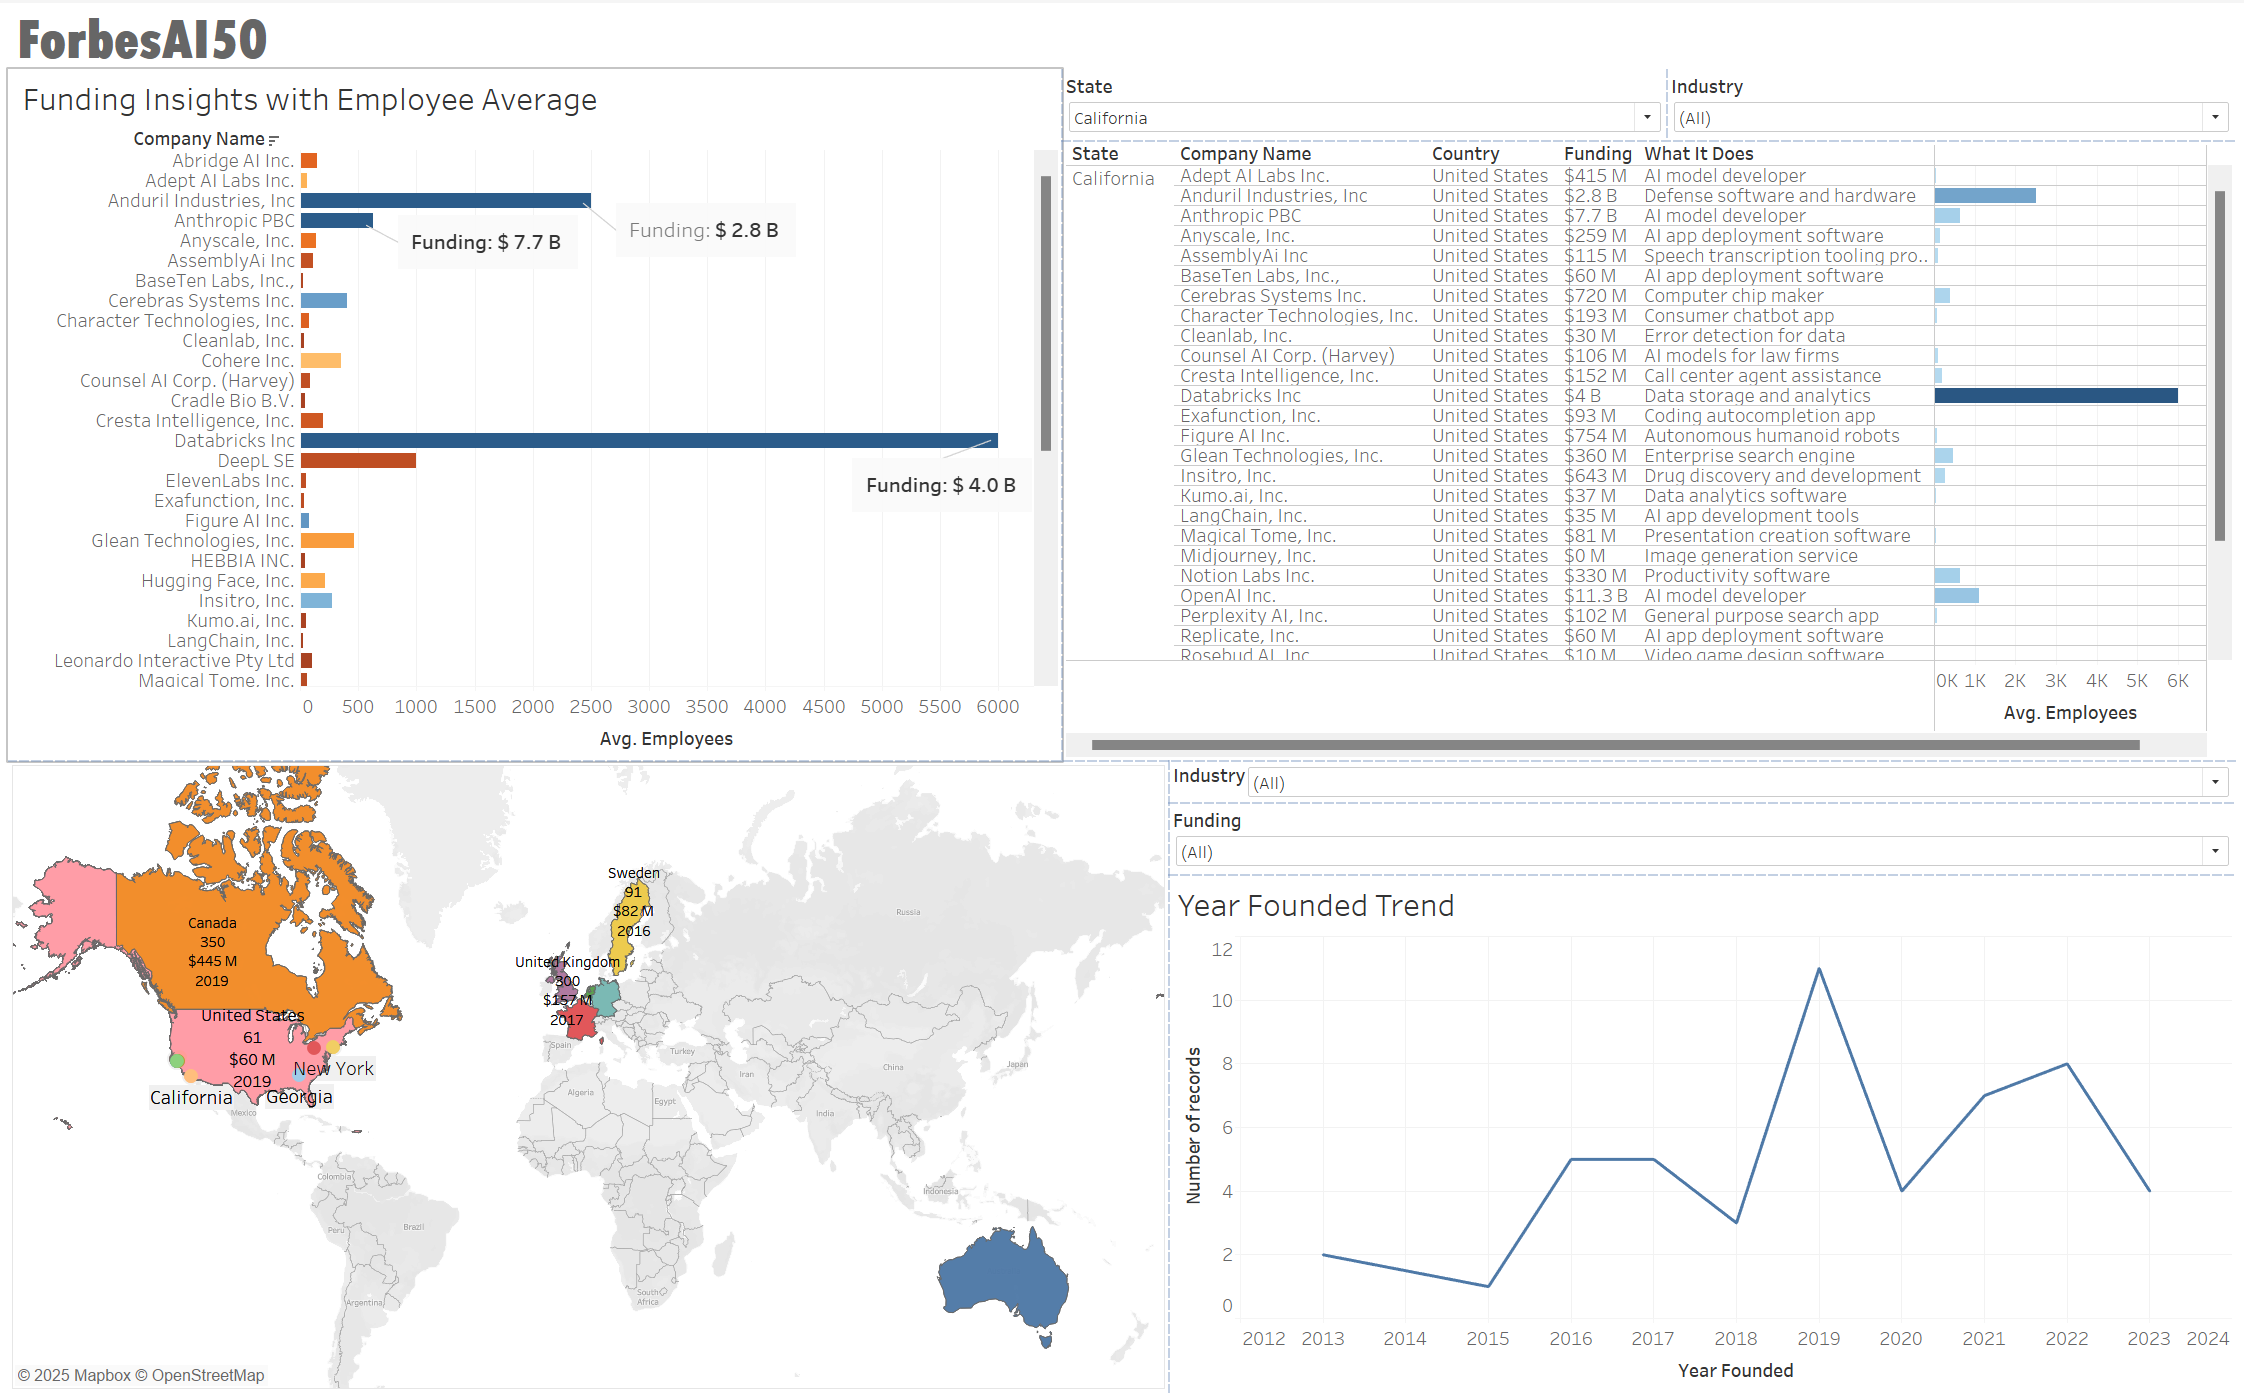

The page's visual inventory and layout, read from the dashboard file:
{"tool":"tableau","page":{"name":"ForbesAI50 Dashboard","canvas":[1000,1000],"units":"permille","ordinal":0},"visuals":[{"type":"text","box":[3.6,5.7,992.9,41.5]},{"type":"worksheet","title":" Funding Insights with Employee Average","mark":"Automatic","rows":["Company Name"],"cols":["Employees"],"box":[3.6,47.2,469.5,495]},{"type":"filter","title":"Company Overview Table","param":"[federated.14z32mv10zo7cy1anahdj00spc6q].[none:State:nk]","box":[473.1,47.2,269.8,51.4]},{"type":"filter","title":"Company Overview Table","param":"[federated.14z32mv10zo7cy1anahdj00spc6q].[none:Industry:nk]","box":[742.9,47.2,253.5,51.4]},{"type":"worksheet","title":"Company Overview Table","mark":"Bar","rows":["State","Company Name","Country","Funding","What It Does"],"cols":["Employees"],"box":[473.1,98.6,523.4,443.6]},{"type":"worksheet","title":" Geographic Distribution","mark":"Multipolygon","box":[3.6,542.2,517.4,452.1]},{"type":"filter","title":"Year Founded Trend ","param":"[federated.14z32mv10zo7cy1anahdj00spc6q].[none:Industry:nk]","box":[520.9,542.2,475.5,29.9]},{"type":"filter","title":"Year Founded Trend ","param":"[federated.14z32mv10zo7cy1anahdj00spc6q].[none:Funding:nk]","box":[520.9,572.1,475.5,51.4]},{"type":"worksheet","title":"Year Founded Trend ","mark":"Line","rows":["Calculation_619807921992110080"],"cols":["Year Founded"],"box":[520.9,623.5,475.5,370.8]}]}

Visuals, with their boxes on the dashboard's canvas, which has no fixed pixel size, in thousandths of its width and height (x1, y1, x2, y2). These are canvas units, not pixel positions in the 2244x1394 screenshot, which may show the page scaled, cropped or inside an application window:
text: [left=4, top=6, right=996, bottom=47]
" Funding Insights with Employee Average" worksheet: [left=4, top=47, right=473, bottom=542]
"Company Overview Table" filter: [left=473, top=47, right=743, bottom=99]
"Company Overview Table" filter: [left=743, top=47, right=996, bottom=99]
"Company Overview Table" worksheet (Bar marks): [left=473, top=99, right=996, bottom=542]
" Geographic Distribution" worksheet (Multipolygon marks): [left=4, top=542, right=521, bottom=994]
"Year Founded Trend " filter: [left=521, top=542, right=996, bottom=572]
"Year Founded Trend " filter: [left=521, top=572, right=996, bottom=624]
"Year Founded Trend " worksheet (Line marks): [left=521, top=624, right=996, bottom=994]
